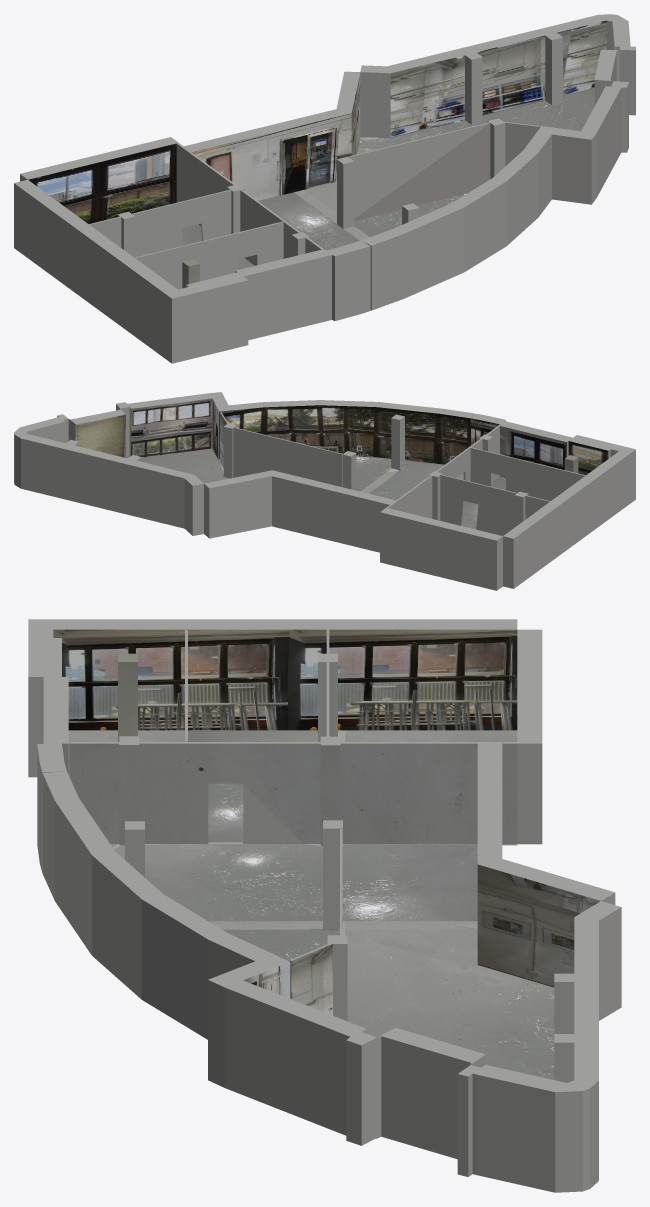
The picture shows the model from 3 angles, top to bottom: view 1: azimuth 30°, elevation 25°; view 2: azimuth 150°, elevation 25°; view 3: azimuth 270°, elevation 25°; orthographic projection. The views are drawn at different scales.
Parts seen in each view (by area): view 1: base_link; view 2: base_link; view 3: base_link.
Boxes of the visible parts, x1=… form: base_link: x1=14, y1=14, x2=635, y2=363; base_link: x1=14, y1=392, x2=635, y2=590; base_link: x1=28, y1=619, x2=621, y2=1192.
Bounding box in the file's own units: 50.46 × 26.73 × 5.05.
